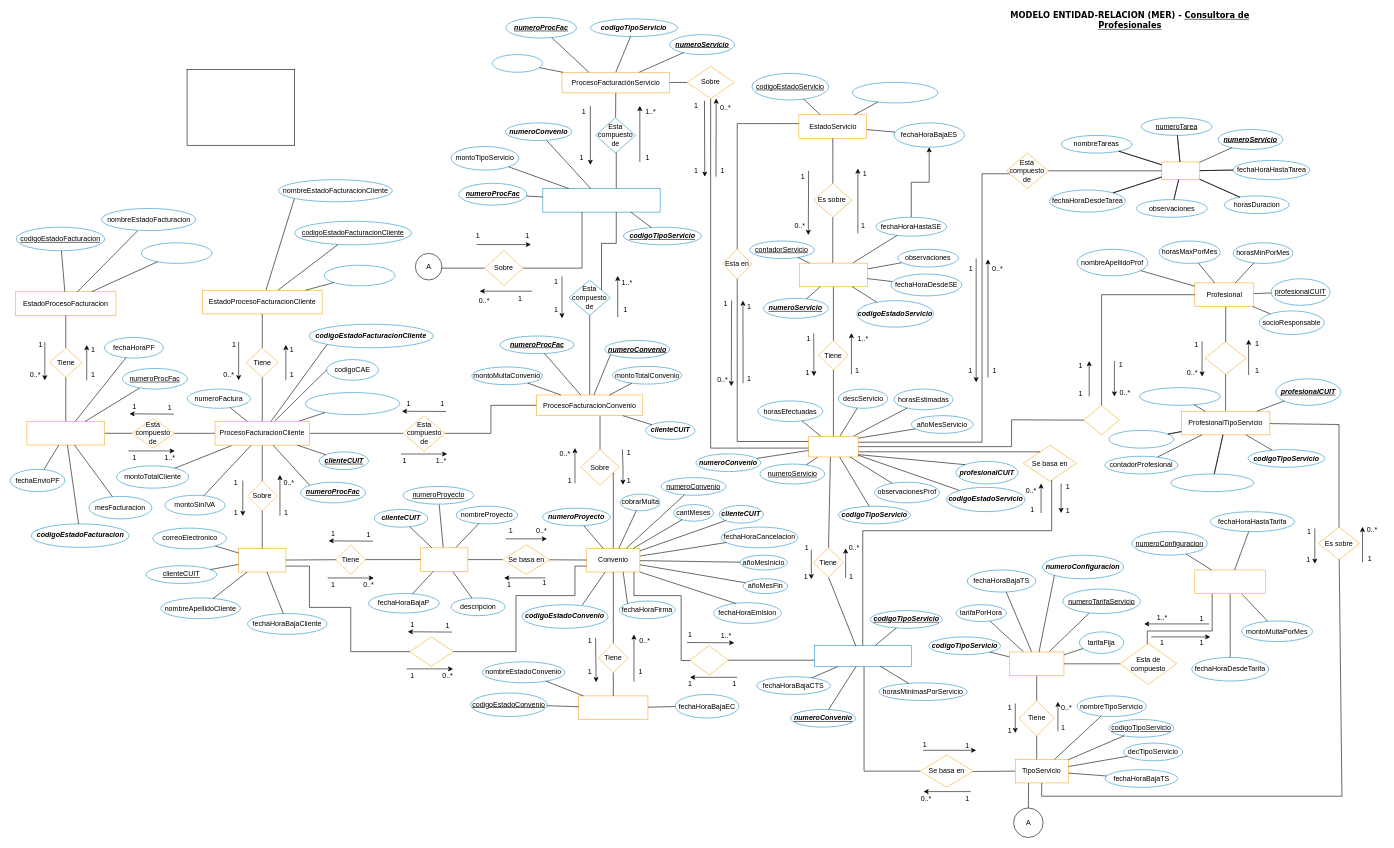
The diagram is 1394 pixels wide and 848 high, and some of its shapes have lost their labels. The shapes that lost their labels are listed below. From the top down, each one's centre as x and y in pixels, then its label:
At (x=517, y=63): "montoServicio".
At (x=240, y=107): "REFERENCIAS Foreign Key Primary Key PK FK".
At (x=895, y=92): "nombreEstadoServicio".
At (x=1180, y=170): "Tarea".
At (x=601, y=200): "ProcesoFacturaciónTipoServicio".
At (x=176, y=252): "fechaHoraBajaEPF".
At (x=359, y=275): "fechaHoraBajaEPFC".
At (x=833, y=275): "ServicioEstado".
At (x=1225, y=357): "Sabe".
At (x=352, y=403): "fechaHoraFacturacionCliente".
At (x=1179, y=396): "fechaHoraHastaPTS".
At (x=65, y=433): "ProcesoFacturacion".
At (x=1101, y=420): "Realiza".
At (x=1141, y=439): "montoHonorario".
At (x=833, y=446): "Servicio".
At (x=1212, y=482): "fechaHoraDesdePTS".
At (x=262, y=560): "Cliente".
At (x=444, y=559): "Proyecto".
At (x=1230, y=581): "ConfiguracionTarifa".
At (x=431, y=651): "Acuerdo".
At (x=708, y=660): "Contiene".
At (x=862, y=655): "ConvenioTipoServicio".
At (x=1036, y=663): "TarifaServicio".
At (x=613, y=707): "EstadoConvenio".
